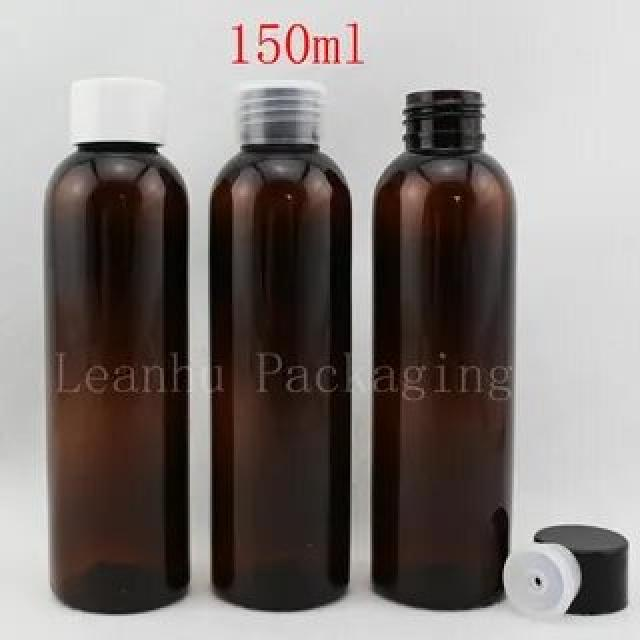brown: (372, 87, 518, 608), (47, 143, 190, 617), (208, 146, 352, 612)
